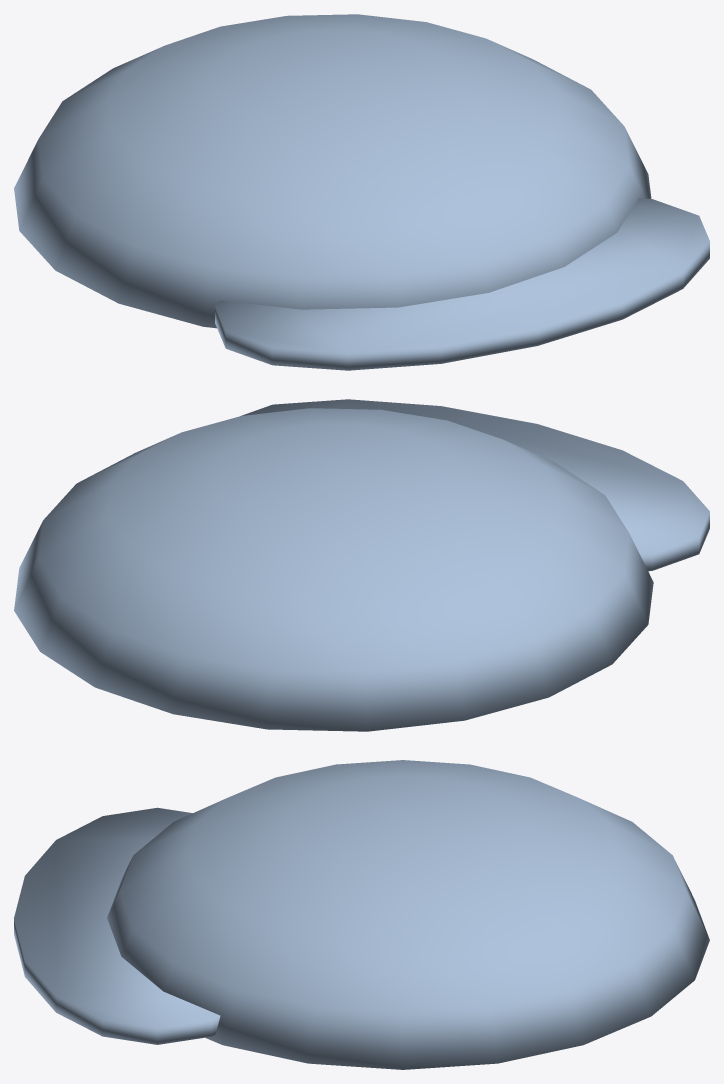
File: prop-Prop_MailCap.fa613e2983.glb
The picture shows the model from 3 angles, top to bottom: view 1: azimuth 30°, elevation 25°; view 2: azimuth 150°, elevation 25°; view 3: azimuth 270°, elevation 25°; orthographic projection. The views are drawn at different scales.
Parts seen in each view (by area): view 1: Prop_MailCap; view 2: Prop_MailCap; view 3: Prop_MailCap.
Boxes of the visible parts, left/top/right/bottom form: Prop_MailCap: left=14, top=14, right=709, bottom=370; Prop_MailCap: left=14, top=399, right=709, bottom=731; Prop_MailCap: left=14, top=760, right=709, bottom=1069.
Size of the model in its own units: 0.4 by 0.09 by 0.4535.
